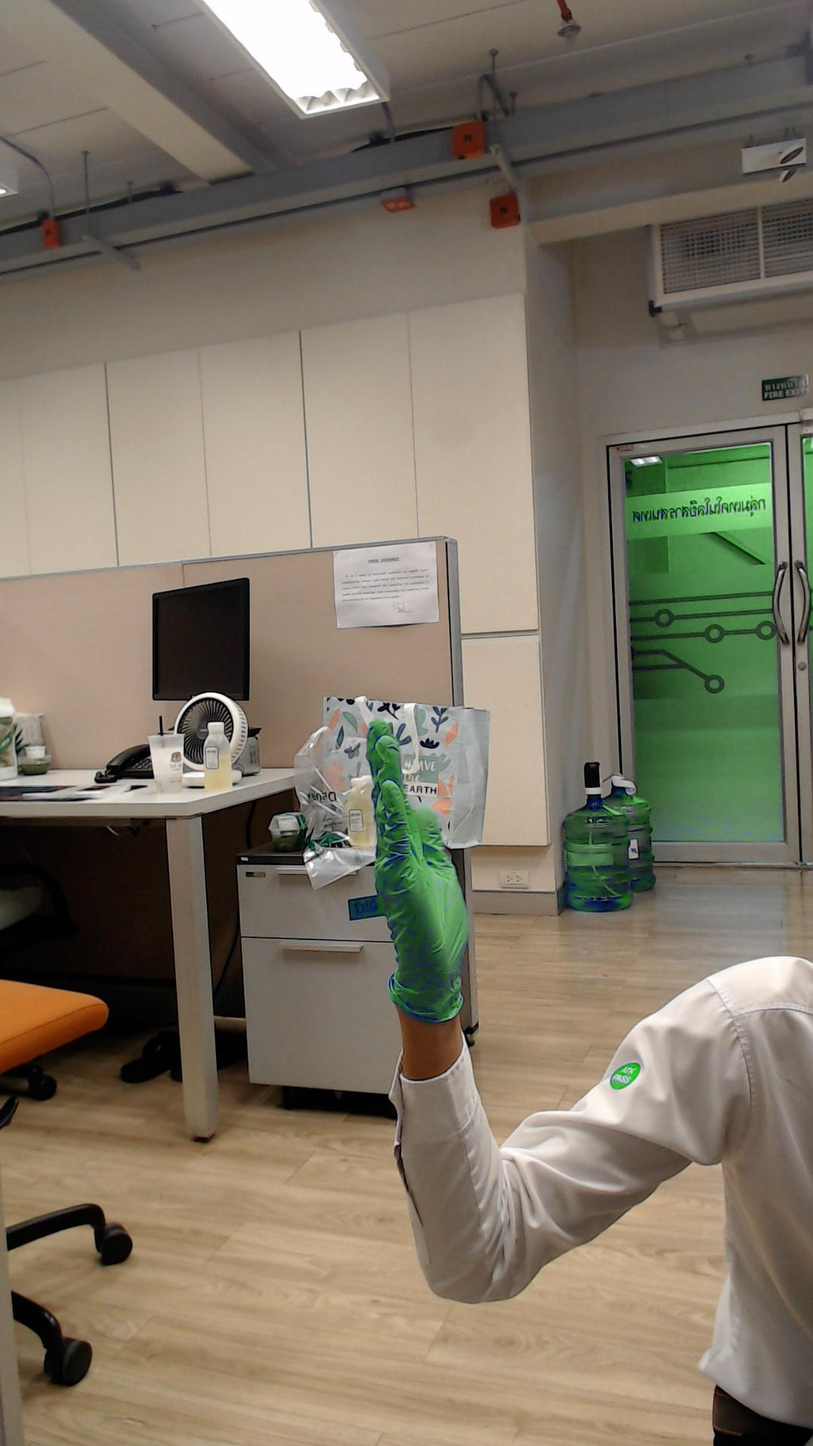gloves: (355, 700, 482, 990)
